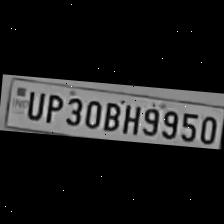0: (80, 96, 104, 130), (196, 112, 220, 146)
3: (62, 92, 84, 128)
5: (177, 108, 199, 142)
9: (158, 106, 181, 140), (138, 104, 160, 139)
B: (100, 97, 122, 132)
H: (119, 100, 142, 136)
P: (41, 90, 63, 126)
U: (22, 88, 45, 122)
